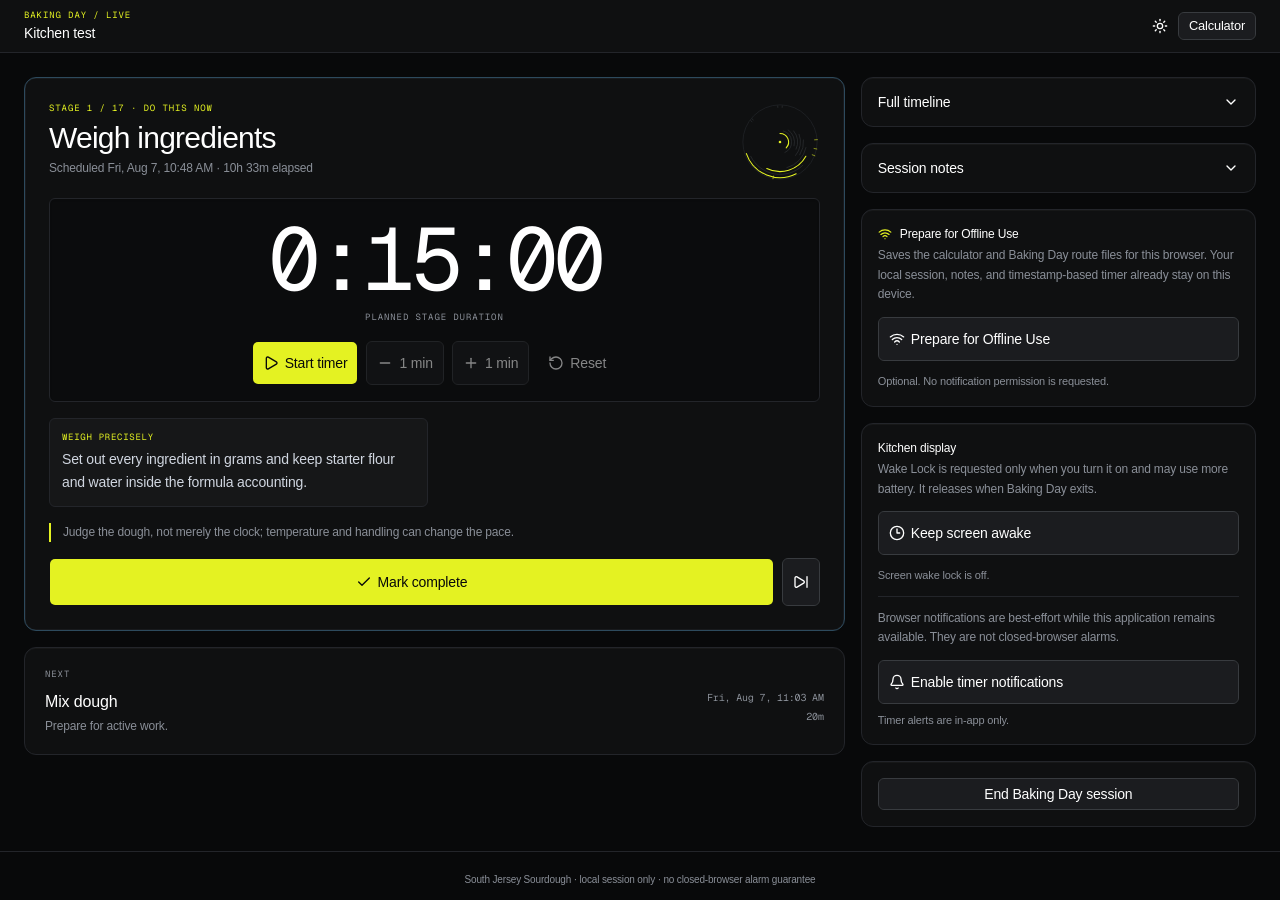
Test: Baking Day behavior › asks whether to shift or preserve planned times on completion
Expected: the heading "Kitchen test" is shown, [24, 25, 95, 41]
Step 1. Click the button "Mark complete" → {"x": 411, "y": 582}, box [49, 558, 774, 606]
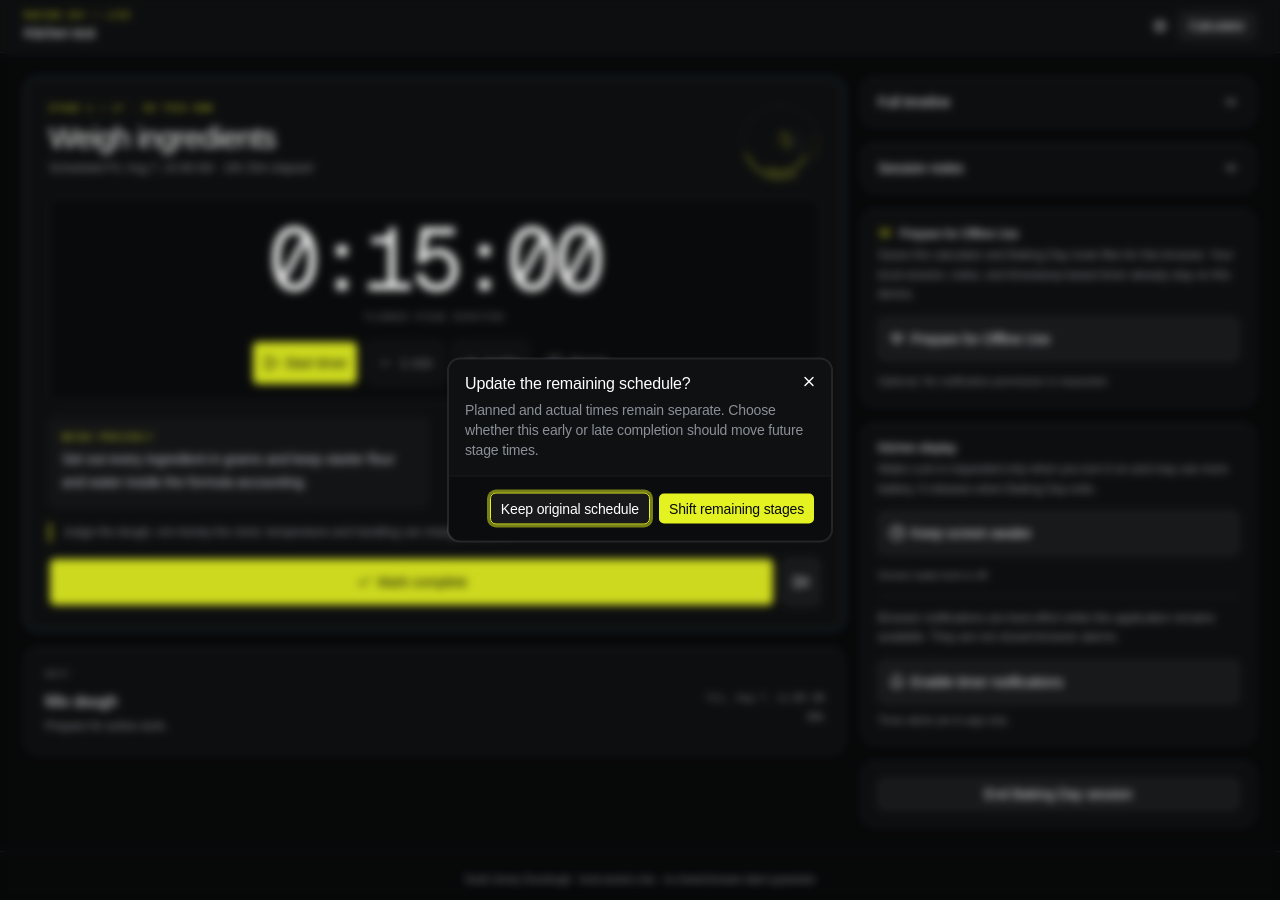
Now the heading "Update the remaining schedule?" is shown, box [465, 374, 691, 392]
Step 2. Click the button "Keep original schedule" → {"x": 570, "y": 508}, box [490, 492, 650, 524]
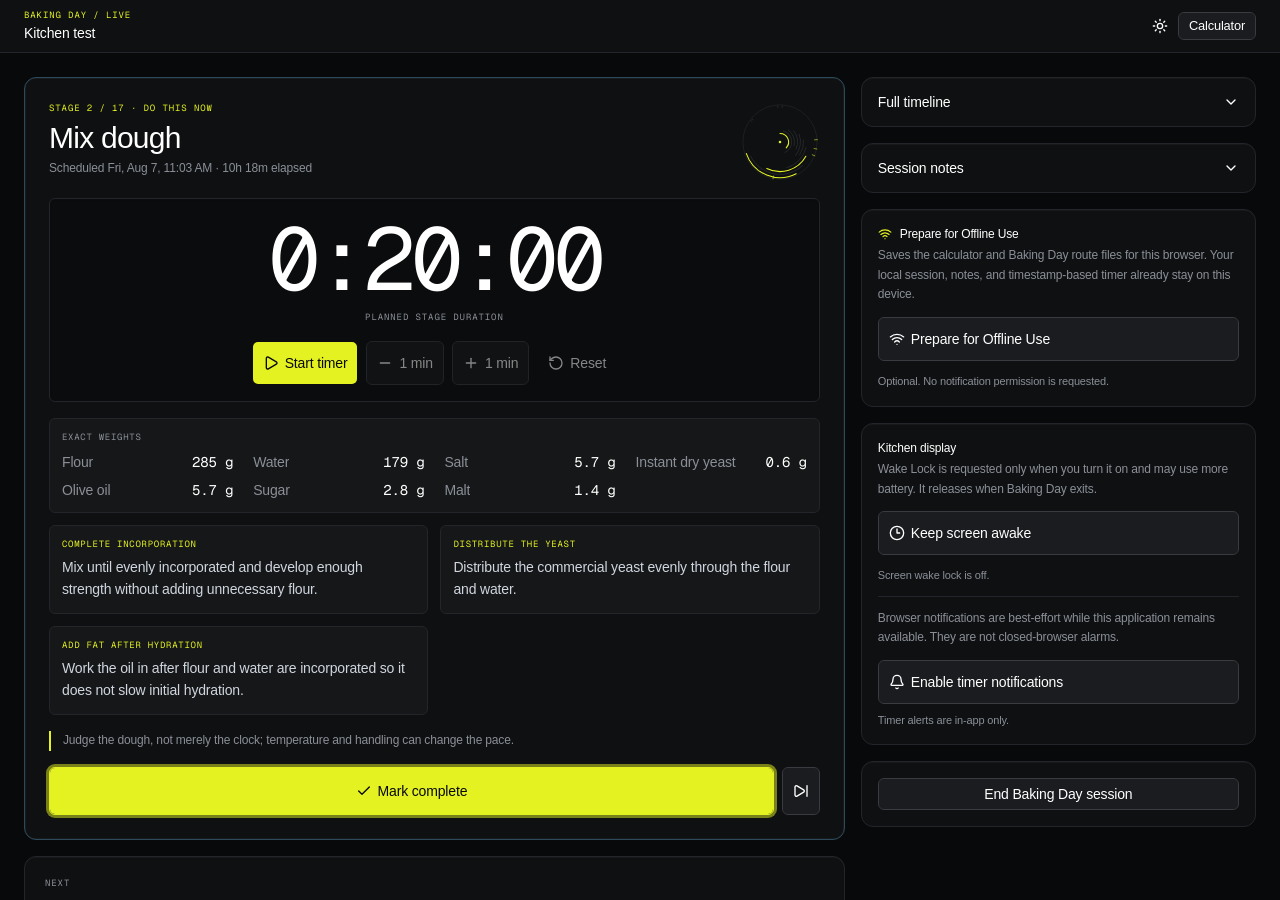
Now the heading "Mix dough" is shown, box [49, 120, 181, 154]
